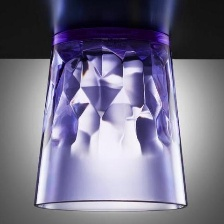glass: (26, 22, 191, 220)
